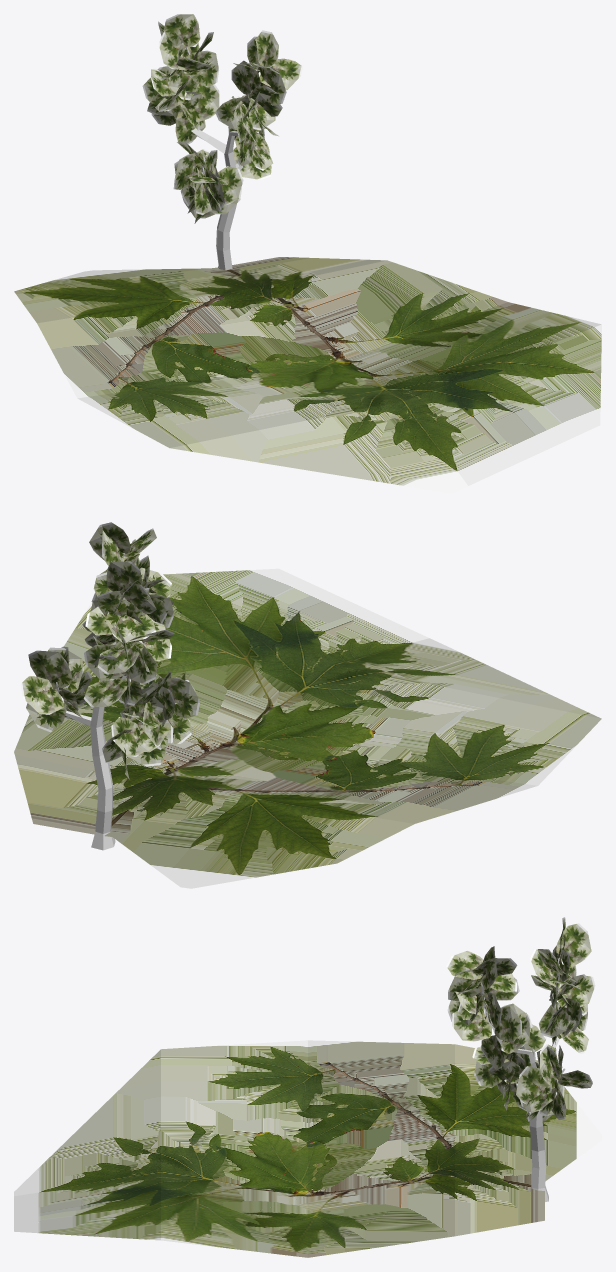
File: Tree_Test1 (1).fbx
The picture shows the model from 3 angles, top to bottom: view 1: azimuth 30°, elevation 25°; view 2: azimuth 150°, elevation 25°; view 3: azimuth 270°, elevation 25°; orthographic projection. The views are drawn at different scales.
Parts seen in each view (by area): view 1: BLAADJE, STRONK, STRONK|BLAADJE|Dupli|45, STRONK|BLAADJE|Dupli|59, STRONK|BLAADJE|Dupli|14, STRONK|BLAADJE|Dupli|43, STRONK|BLAADJE|Dupli|72, STRONK|BLAADJE|Dupli|12, STRONK|BLAADJE|Dupli|3, STRONK|BLAADJE|Dupli|70; view 2: BLAADJE, STRONK, STRONK|BLAADJE|Dupli|16, STRONK|BLAADJE|Dupli|21, STRONK|BLAADJE|Dupli|46, STRONK|BLAADJE|Dupli|14, STRONK|BLAADJE|Dupli|58, STRONK|BLAADJE|Dupli|48, STRONK|BLAADJE|Dupli|45, STRONK|BLAADJE|Dupli|39, STRONK|BLAADJE|Dupli|63, STRONK|BLAADJE|Dupli|54 (+9 smaller); view 3: BLAADJE, STRONK, STRONK|BLAADJE|Dupli|9, STRONK|BLAADJE|Dupli|23, STRONK|BLAADJE|Dupli|1, STRONK|BLAADJE|Dupli|60, STRONK|BLAADJE|Dupli|66, STRONK|BLAADJE|Dupli|7, STRONK|BLAADJE|Dupli|56, STRONK|BLAADJE|Dupli|76, STRONK|BLAADJE|Dupli|70, STRONK|BLAADJE|Dupli|21 (+5 smaller).
Part boxes in pixels (bbox=[...]): BLAADJE: bbox=[14, 257, 601, 493]; STRONK: bbox=[184, 46, 249, 270]; STRONK|BLAADJE|Dupli|45: bbox=[163, 14, 200, 49]; STRONK|BLAADJE|Dupli|59: bbox=[189, 84, 219, 122]; STRONK|BLAADJE|Dupli|14: bbox=[173, 152, 205, 189]; STRONK|BLAADJE|Dupli|43: bbox=[189, 50, 218, 87]; STRONK|BLAADJE|Dupli|72: bbox=[231, 60, 260, 94]; STRONK|BLAADJE|Dupli|12: bbox=[218, 166, 243, 204]; STRONK|BLAADJE|Dupli|3: bbox=[258, 58, 302, 90]; STRONK|BLAADJE|Dupli|70: bbox=[257, 65, 286, 105]; BLAADJE: bbox=[14, 568, 601, 888]; STRONK: bbox=[56, 553, 126, 850]; STRONK|BLAADJE|Dupli|16: bbox=[28, 650, 72, 689]; STRONK|BLAADJE|Dupli|21: bbox=[20, 675, 63, 714]; STRONK|BLAADJE|Dupli|46: bbox=[105, 612, 155, 642]; STRONK|BLAADJE|Dupli|14: bbox=[156, 678, 200, 719]; STRONK|BLAADJE|Dupli|58: bbox=[83, 677, 130, 707]; STRONK|BLAADJE|Dupli|48: bbox=[97, 641, 143, 674]; STRONK|BLAADJE|Dupli|45: bbox=[106, 561, 142, 591]; STRONK|BLAADJE|Dupli|39: bbox=[111, 717, 143, 756]; STRONK|BLAADJE|Dupli|63: bbox=[89, 522, 130, 560]; STRONK|BLAADJE|Dupli|54: bbox=[98, 591, 145, 616]; BLAADJE: bbox=[14, 1040, 601, 1257]; STRONK: bbox=[481, 957, 565, 1201]; STRONK|BLAADJE|Dupli|9: bbox=[556, 923, 591, 967]; STRONK|BLAADJE|Dupli|23: bbox=[516, 1066, 549, 1104]; STRONK|BLAADJE|Dupli|1: bbox=[452, 1010, 493, 1041]; STRONK|BLAADJE|Dupli|60: bbox=[446, 951, 483, 979]; STRONK|BLAADJE|Dupli|66: bbox=[495, 1006, 521, 1041]; STRONK|BLAADJE|Dupli|7: bbox=[538, 1004, 570, 1037]; STRONK|BLAADJE|Dupli|56: bbox=[557, 976, 595, 1007]; STRONK|BLAADJE|Dupli|76: bbox=[481, 1035, 507, 1070]; STRONK|BLAADJE|Dupli|70: bbox=[448, 970, 484, 1001]; STRONK|BLAADJE|Dupli|21: bbox=[557, 1070, 592, 1088].
Size of the model in its own units: 74.17 by 43.51 by 84.45.
Materials: 1 (1 with a texture image).
